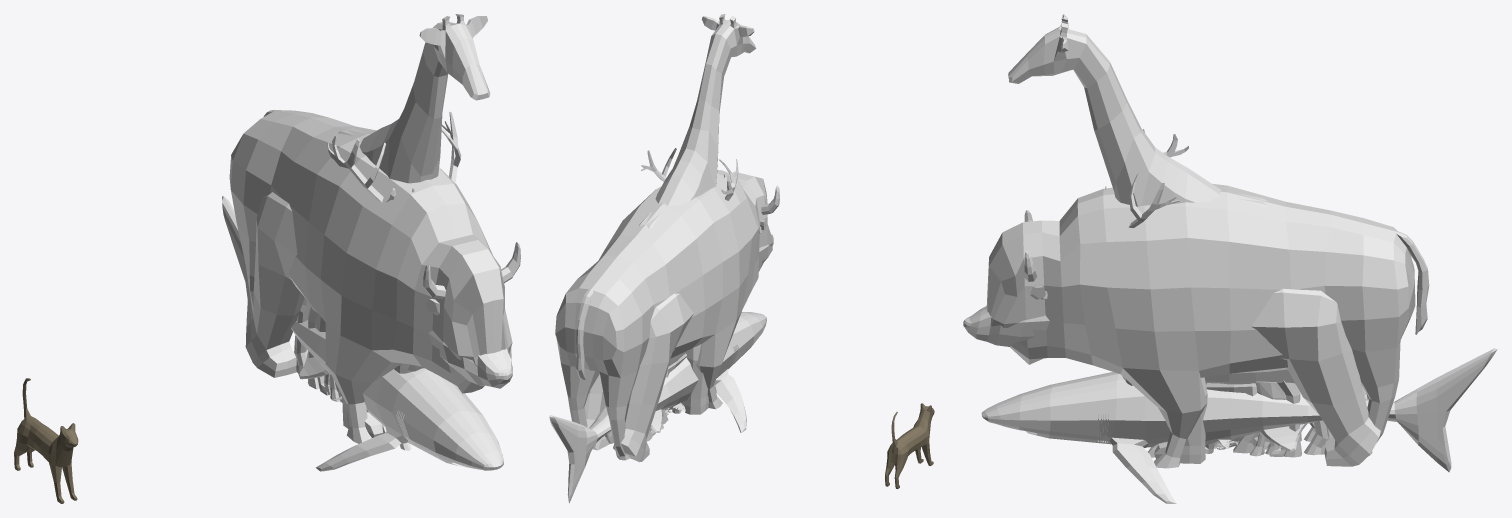
Rendered from cat_final_plane.glb.
3 renders of one model, left to right at view 1: azimuth 30°, elevation 25°; view 2: azimuth 150°, elevation 25°; view 3: azimuth 270°, elevation 25°, orthographic. The views are drawn at different scales.
Parts seen in each view (by area): view 1: 04bizonFinal_Plane.171, 07sharkFinal_Plane.177, 08bearFinal_Plane.179, 18girafFinal_Plane.185, cat_final_plane, 09deerFinal_Plane.188; view 2: 04bizonFinal_Plane.171, 18girafFinal_Plane.185, 08bearFinal_Plane.179, 07sharkFinal_Plane.177, cat_final_plane, 09deerFinal_Plane.188; view 3: 04bizonFinal_Plane.171, 07sharkFinal_Plane.177, 08bearFinal_Plane.179, 18girafFinal_Plane.185, 09deerFinal_Plane.188, 13cowFinal_Plane.192, 10sheepFinal_Plane.152, 17horseFinal_Cube.009.
Part boxes in pixels (x1=…): 04bizonFinal_Plane.171: x1=229, y1=110, x2=520, y2=443; 07sharkFinal_Plane.177: x1=222, y1=196, x2=503, y2=471; 08bearFinal_Plane.179: x1=245, y1=192, x2=512, y2=437; 18girafFinal_Plane.185: x1=338, y1=14, x2=490, y2=402; cat_final_plane: x1=14, y1=378, x2=78, y2=503; 09deerFinal_Plane.188: x1=295, y1=112, x2=461, y2=374; 04bizonFinal_Plane.171: x1=555, y1=170, x2=779, y2=460; 18girafFinal_Plane.185: x1=639, y1=14, x2=756, y2=424; 08bearFinal_Plane.179: x1=584, y1=226, x2=773, y2=462; 07sharkFinal_Plane.177: x1=549, y1=312, x2=766, y2=503; cat_final_plane: x1=885, y1=403, x2=934, y2=488; 09deerFinal_Plane.188: x1=641, y1=148, x2=738, y2=200; 04bizonFinal_Plane.171: x1=986, y1=183, x2=1429, y2=468; 07sharkFinal_Plane.177: x1=981, y1=348, x2=1497, y2=503; 08bearFinal_Plane.179: x1=963, y1=288, x2=1380, y2=466; 18girafFinal_Plane.185: x1=1008, y1=14, x2=1267, y2=453; 09deerFinal_Plane.188: x1=1105, y1=129, x2=1327, y2=455; 13cowFinal_Plane.192: x1=1147, y1=369, x2=1332, y2=457; 10sheepFinal_Plane.152: x1=1149, y1=383, x2=1265, y2=456; 17horseFinal_Cube.009: x1=1277, y1=380, x2=1301, y2=457.
Bounding box in the file's own units: 3.74 × 4.2 × 4.5.
